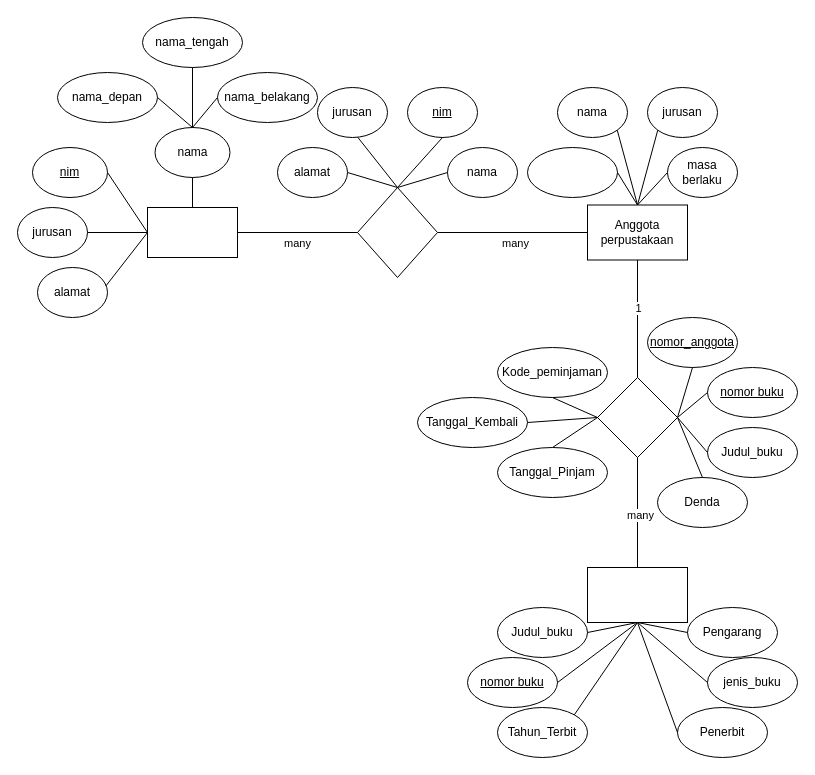
Some shapes in this 815 by 775 pixel diagram are drawn without their labels. Here are the shapes that lost their labels. From the top down, the centre of each, then its label:
(x=572, y=172): nomor anggota
(x=192, y=232): Mahasiswa
(x=397, y=232): mendaftar
(x=637, y=417): Meminjam
(x=637, y=594): Buku
